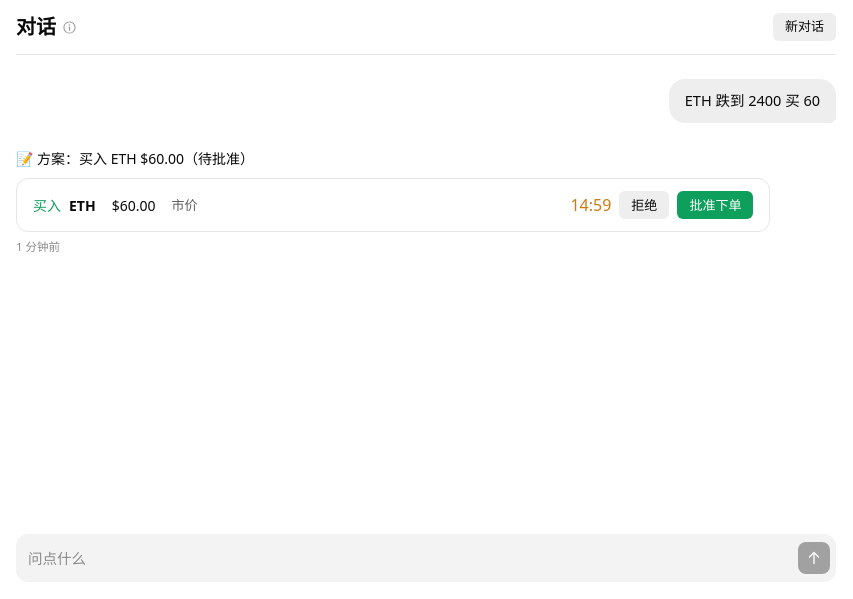
Scenario: Chat trade plans › retries a reject once when the connection drops
Step 1. Click the button "拒绝" → (644, 205), box [619, 191, 669, 219]
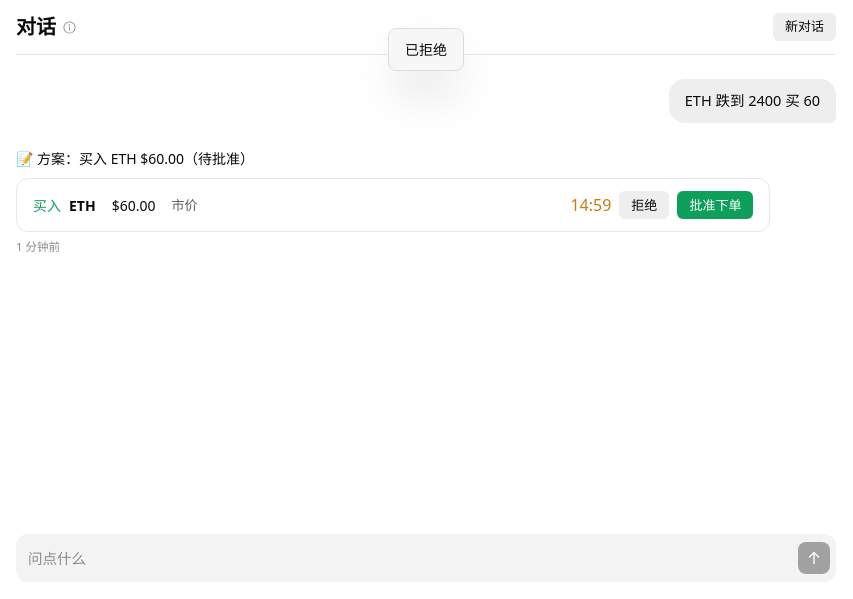
Now the message reads "已拒绝", box [405, 40, 447, 59]
